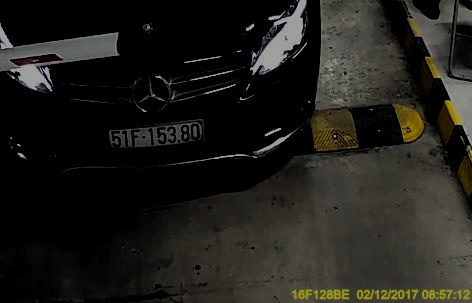plate: (104, 119, 205, 148)
